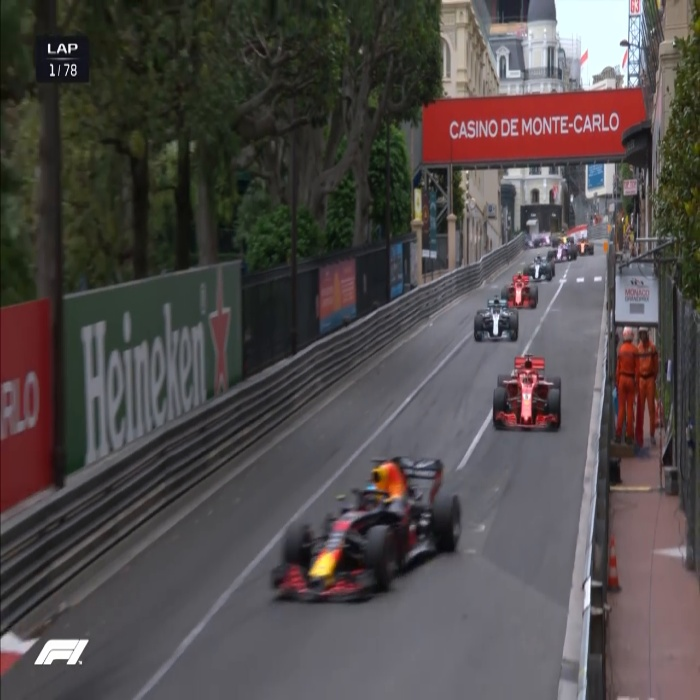f1_car: (269, 429, 469, 604), (486, 348, 571, 438), (469, 290, 525, 342), (499, 274, 544, 312), (523, 253, 557, 284)
